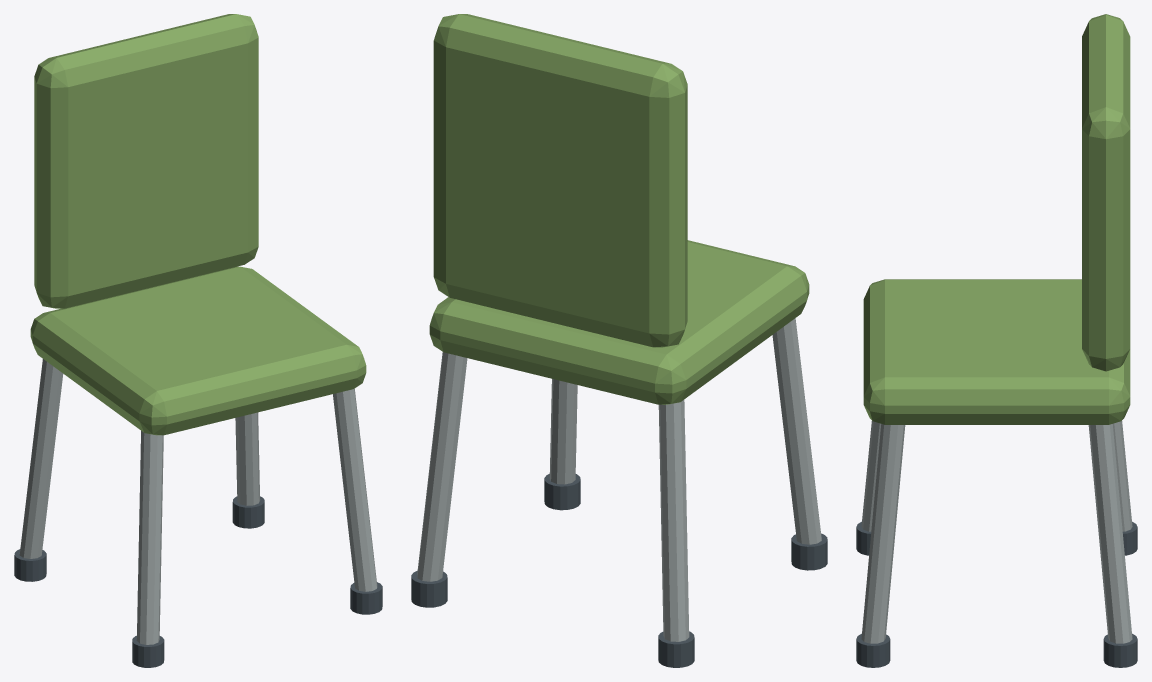
The model's file is lobby_T1_waiting_chair_green.glb.
The picture shows the model from 3 angles, left to right: view 1: azimuth 30°, elevation 25°; view 2: azimuth 150°, elevation 25°; view 3: azimuth 270°, elevation 25°; orthographic projection. The views are drawn at different scales.
Visible parts, largest first — view 1: lobby_T1_waiting_chair_green__Static_Assembly; view 2: lobby_T1_waiting_chair_green__Static_Assembly; view 3: lobby_T1_waiting_chair_green__Static_Assembly.
Boxes of the visible parts, x1,y1,x2,y2 form: lobby_T1_waiting_chair_green__Static_Assembly: (14, 14, 382, 667); lobby_T1_waiting_chair_green__Static_Assembly: (411, 14, 827, 667); lobby_T1_waiting_chair_green__Static_Assembly: (856, 14, 1137, 667).
Bounding box in the file's own units: 0.493 × 0.99 × 0.464.
